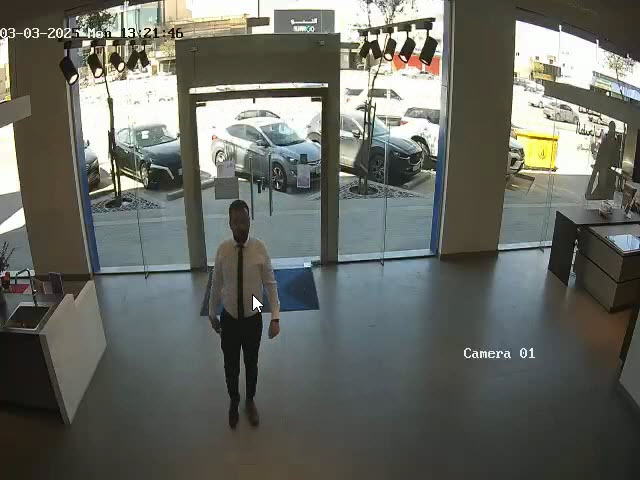male: (207, 199, 281, 429)
